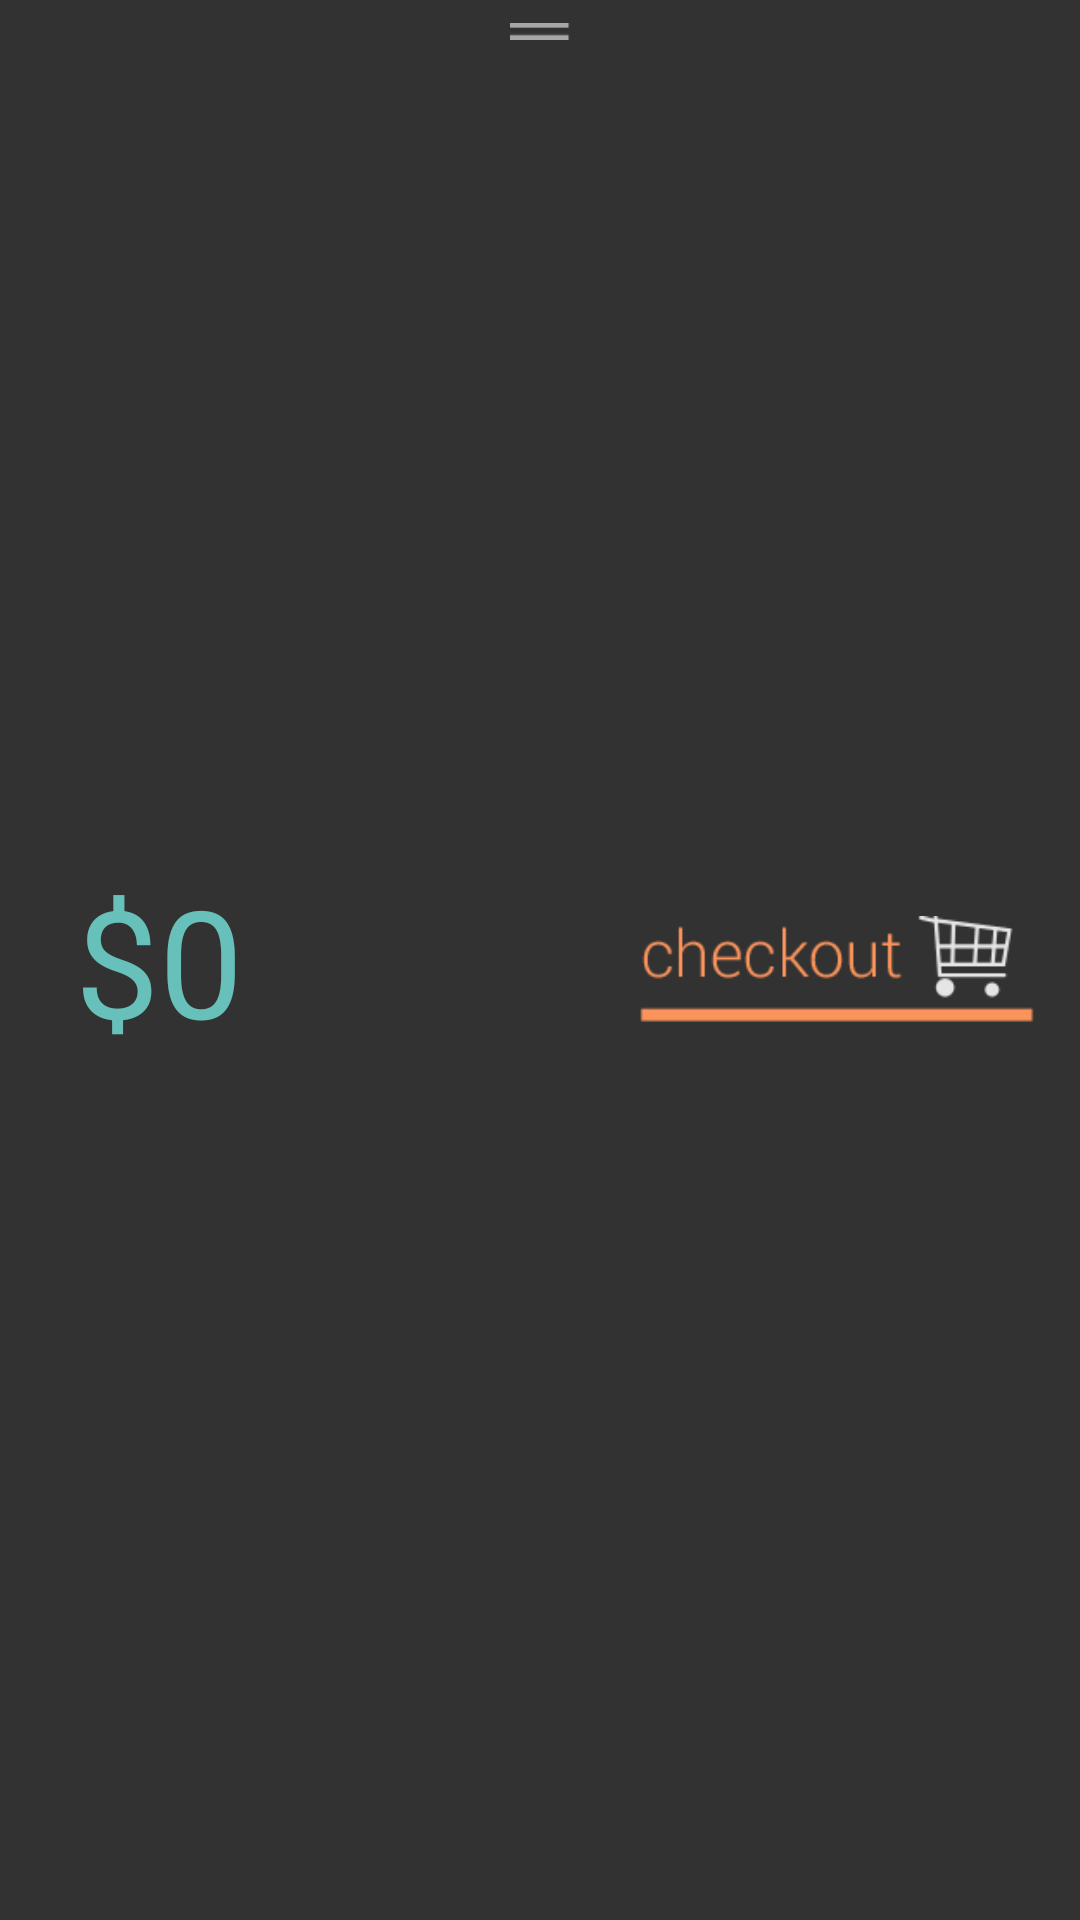

Named icons in this screenshot (1080w x 1920h) and their bounding boxes, (x1, y1, x2, y2):
slidebar: (510, 23, 569, 40)
